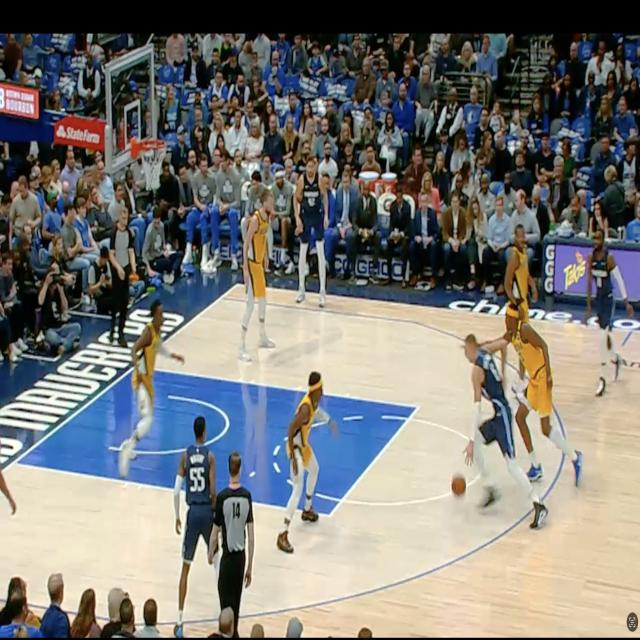no foul: (444, 301, 600, 549), (501, 228, 544, 358)
